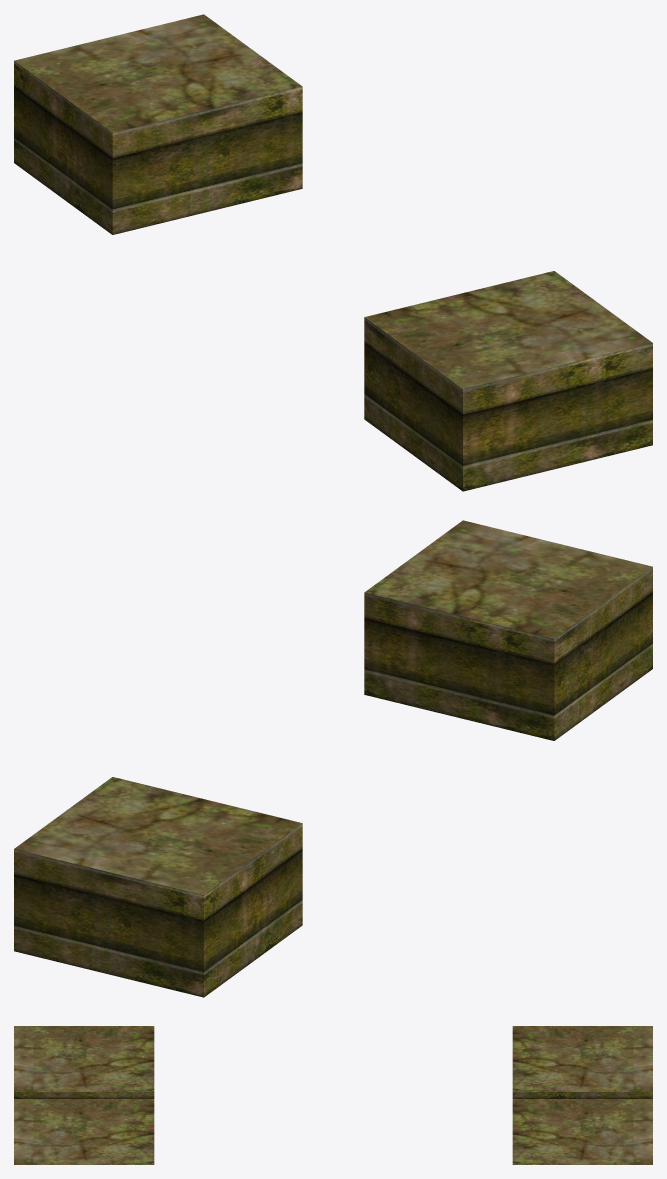
File: OVERHILL_A_01_LINE435.fbx
The picture shows the model from 3 angles, top to bottom: view 1: azimuth 30°, elevation 25°; view 2: azimuth 150°, elevation 25°; view 3: azimuth 270°, elevation 25°; orthographic projection. The views are drawn at different scales.
Visible parts, largest first — view 1: OVERHILL_A_01_LINE435; view 2: OVERHILL_A_01_LINE435; view 3: OVERHILL_A_01_LINE435.
Part boxes in pixels (left/top/right/bottom): OVERHILL_A_01_LINE435: left=14, top=14, right=652, bottom=491; OVERHILL_A_01_LINE435: left=14, top=520, right=652, bottom=997; OVERHILL_A_01_LINE435: left=14, top=1026, right=652, bottom=1164.
Bounding box in the file's own units: 14477 × 7450 × 59254.
2 materials, 2 textured.
